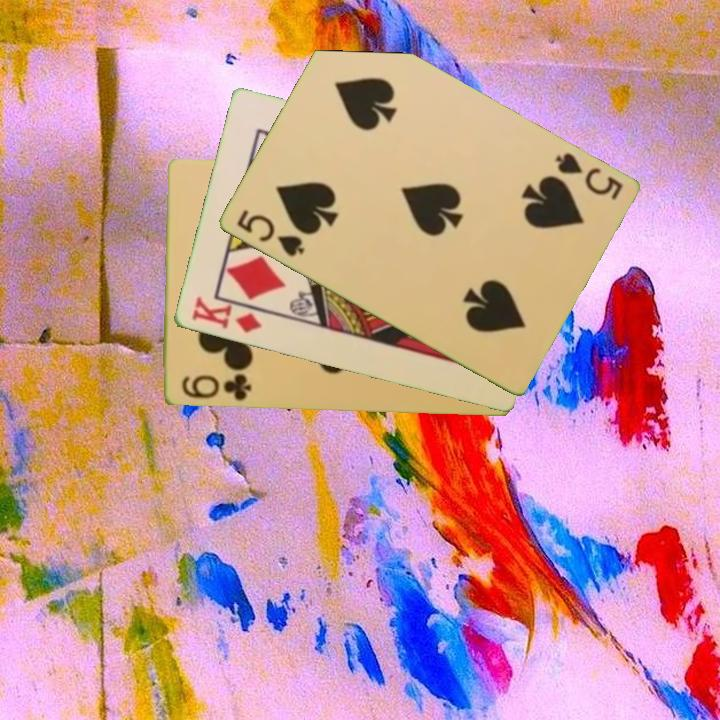5s: (232, 206, 307, 260), (551, 149, 626, 203)
6c: (177, 371, 254, 404)
Kd: (187, 292, 264, 337)
